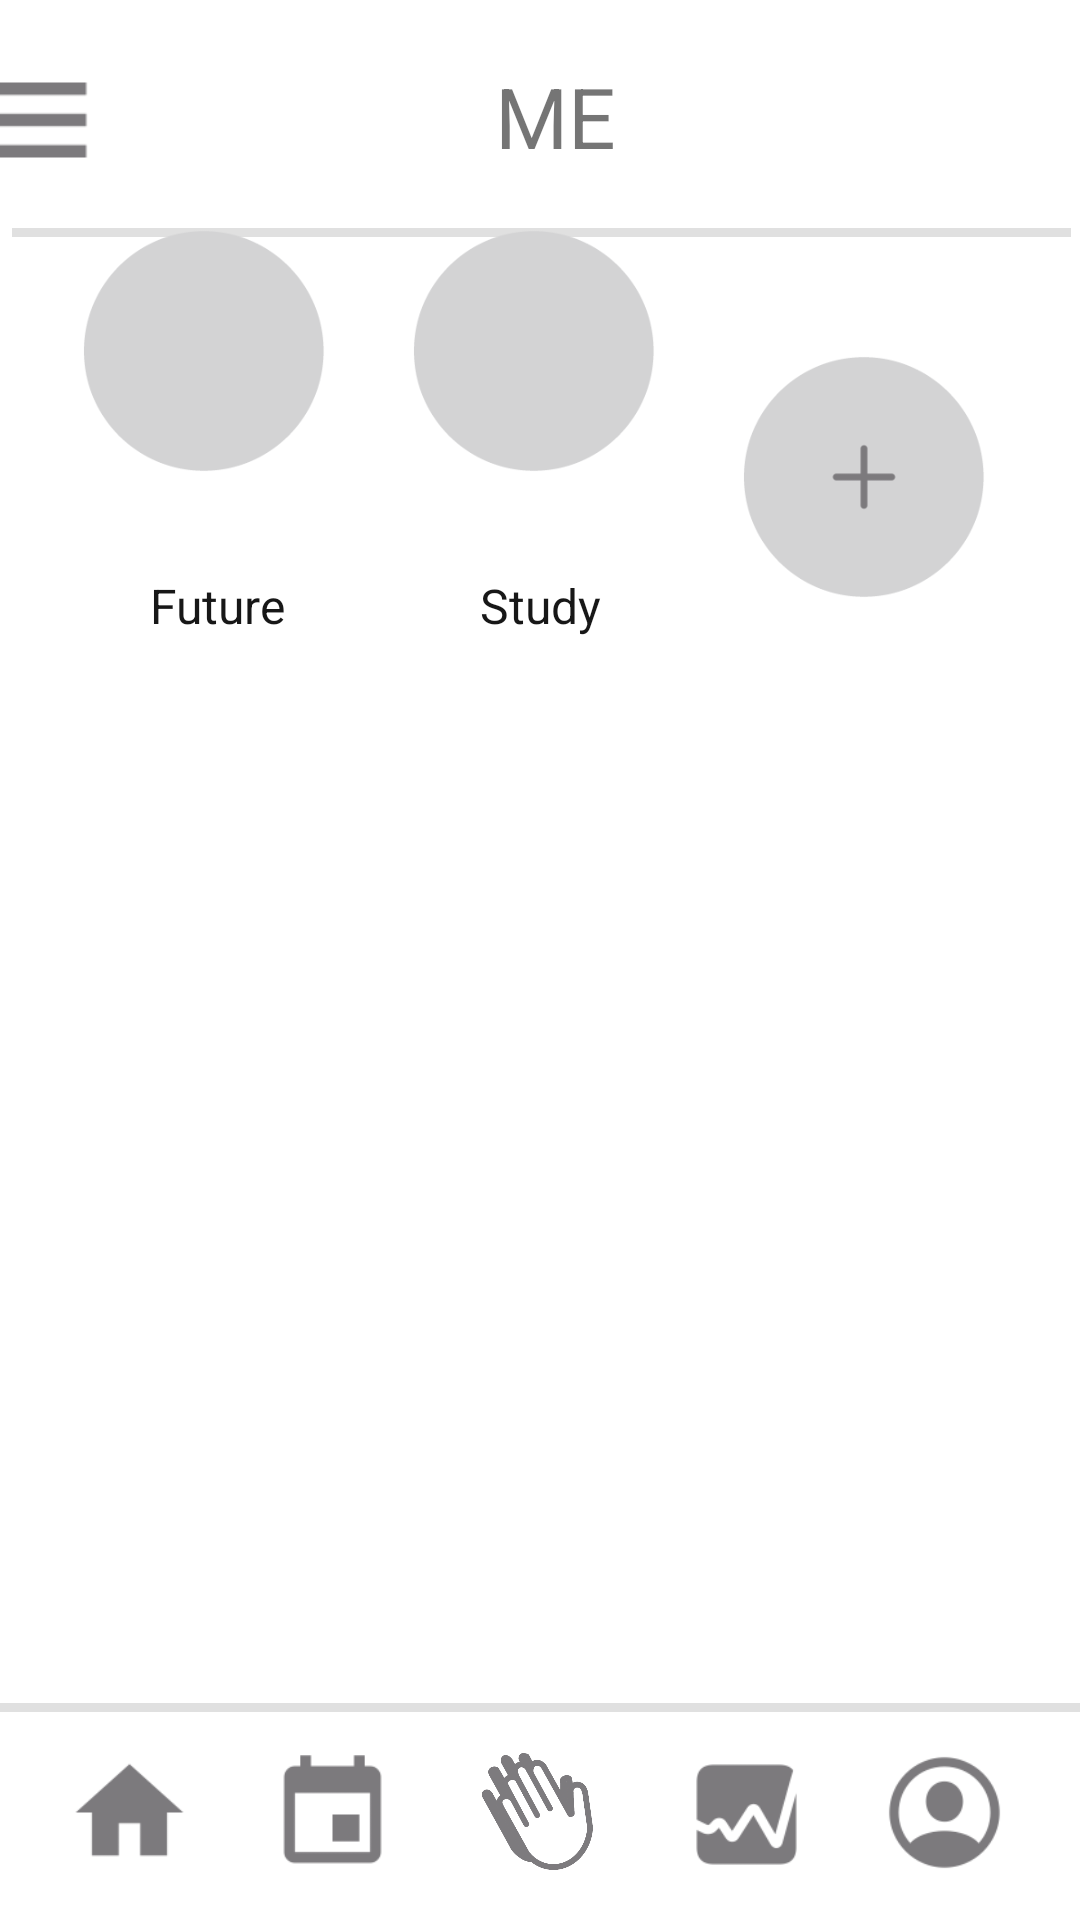

Named icons in this screenshot (1080px×1920px) and their centers, (x,y):
calendarbutton: (332,1809)
homebutton: (129,1810)
mypagebutton: (944,1812)
praybutton: (537,1811)
summarybutton: (746,1814)
